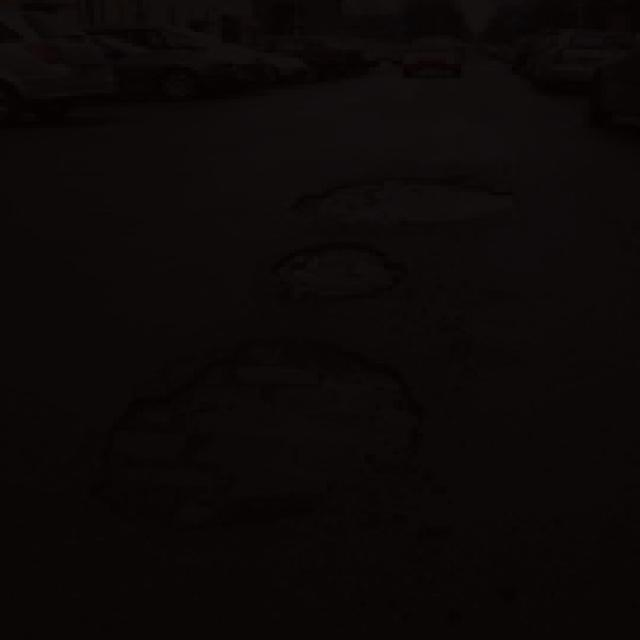Pothole: (85, 324, 429, 536), (281, 170, 528, 230), (260, 230, 414, 310)
